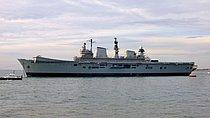MIL_Ship: (17, 34, 197, 77)
